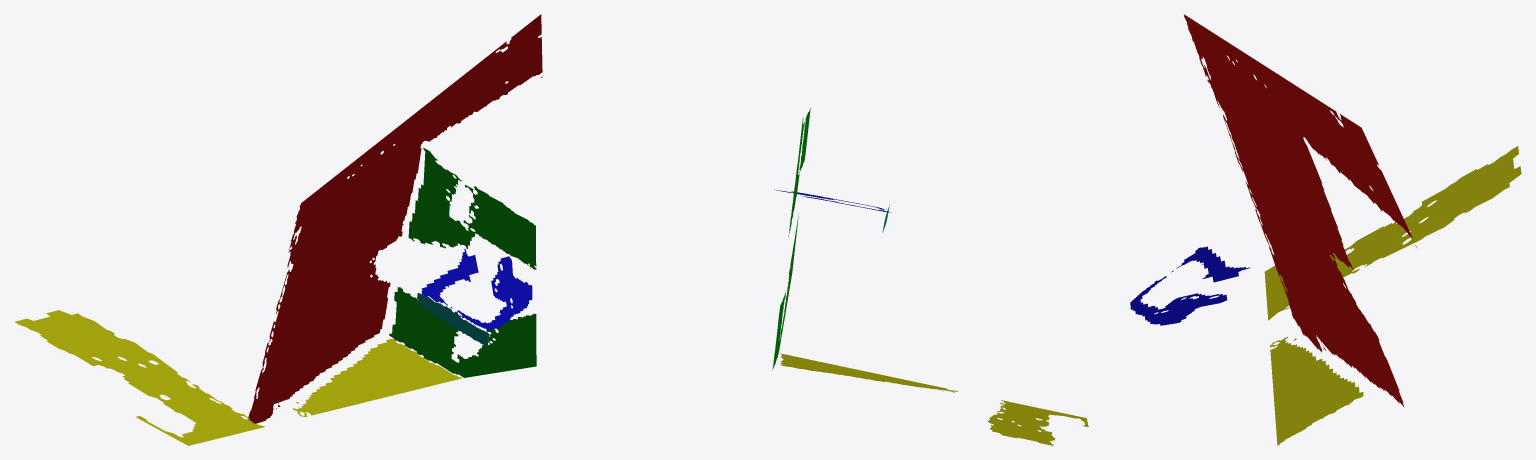
Rendered from 532_seg_GTplane.glb.
The picture shows the model from 3 angles, left to right: view 1: azimuth 30°, elevation 25°; view 2: azimuth 150°, elevation 25°; view 3: azimuth 270°, elevation 25°; orthographic projection. The views are drawn at different scales.
Bounding box in the file's own units: 3.02 × 1.91 × 1.75.
